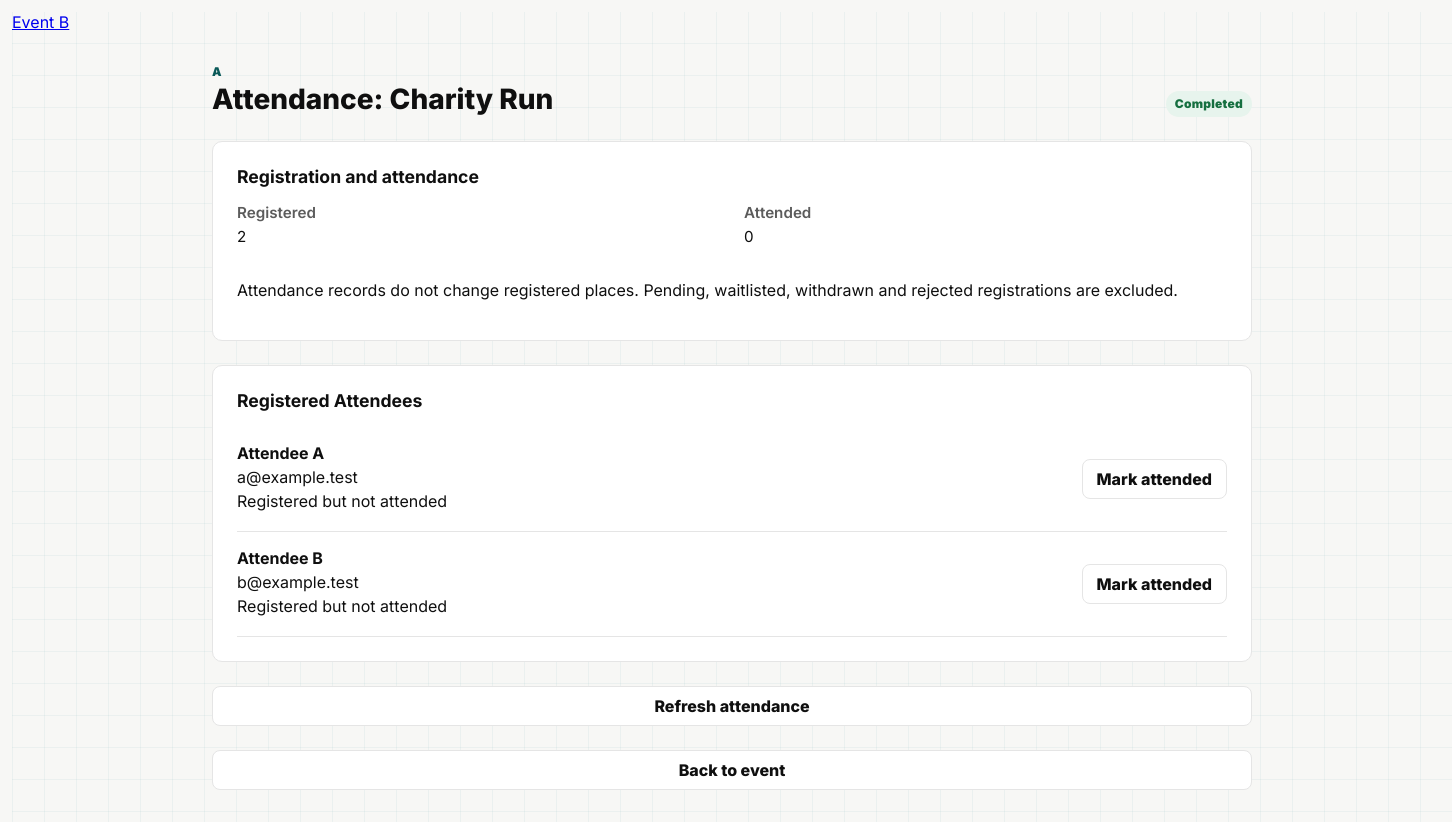
it: navigating during save aborts late response and hides the old success
Click the button with aria-label "Mark attended: Attendee A" at (1154, 479), box [1082,459,1227,499]
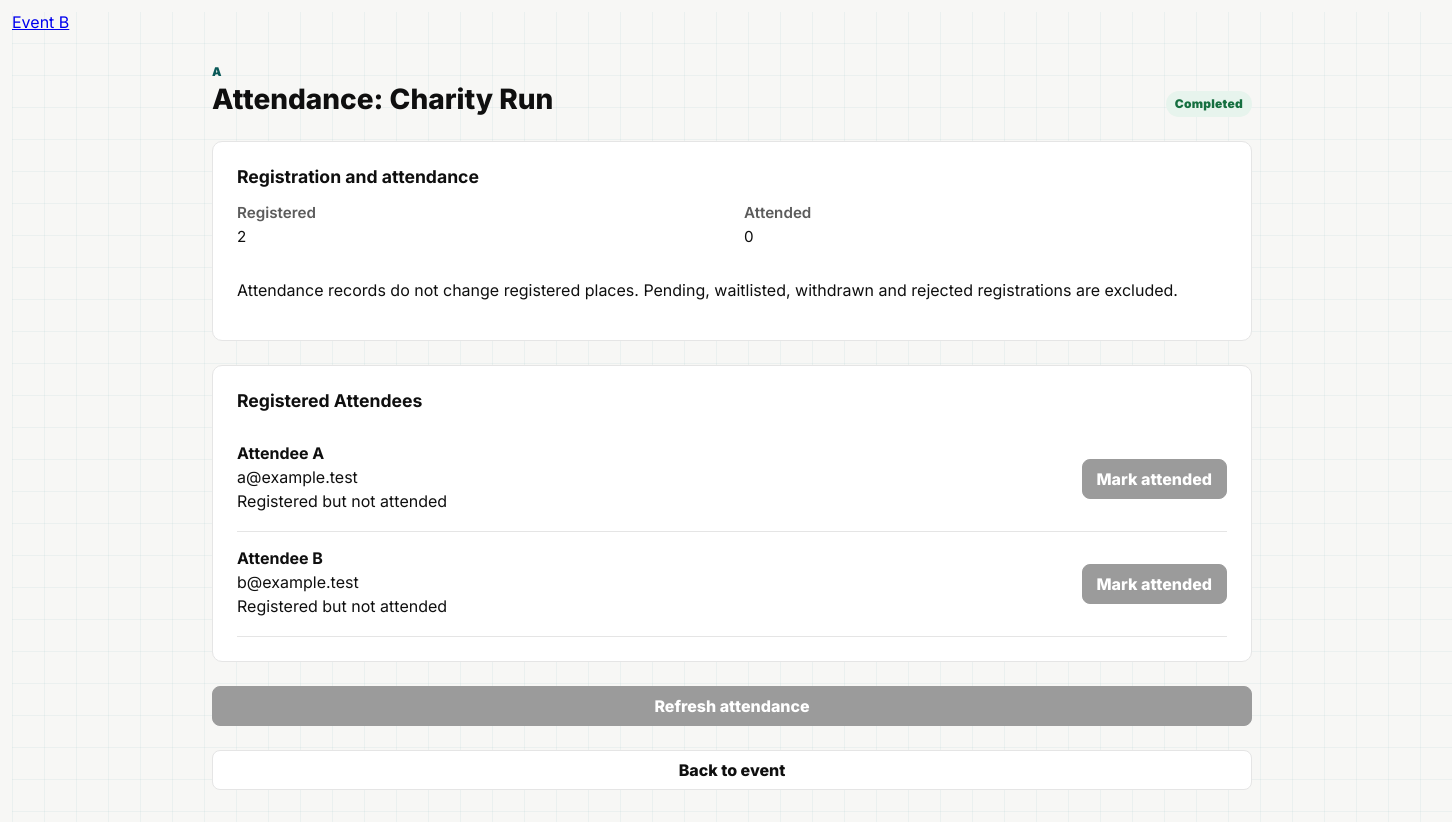
Click the link "Event B" at (41, 22), box [12,12,69,32]
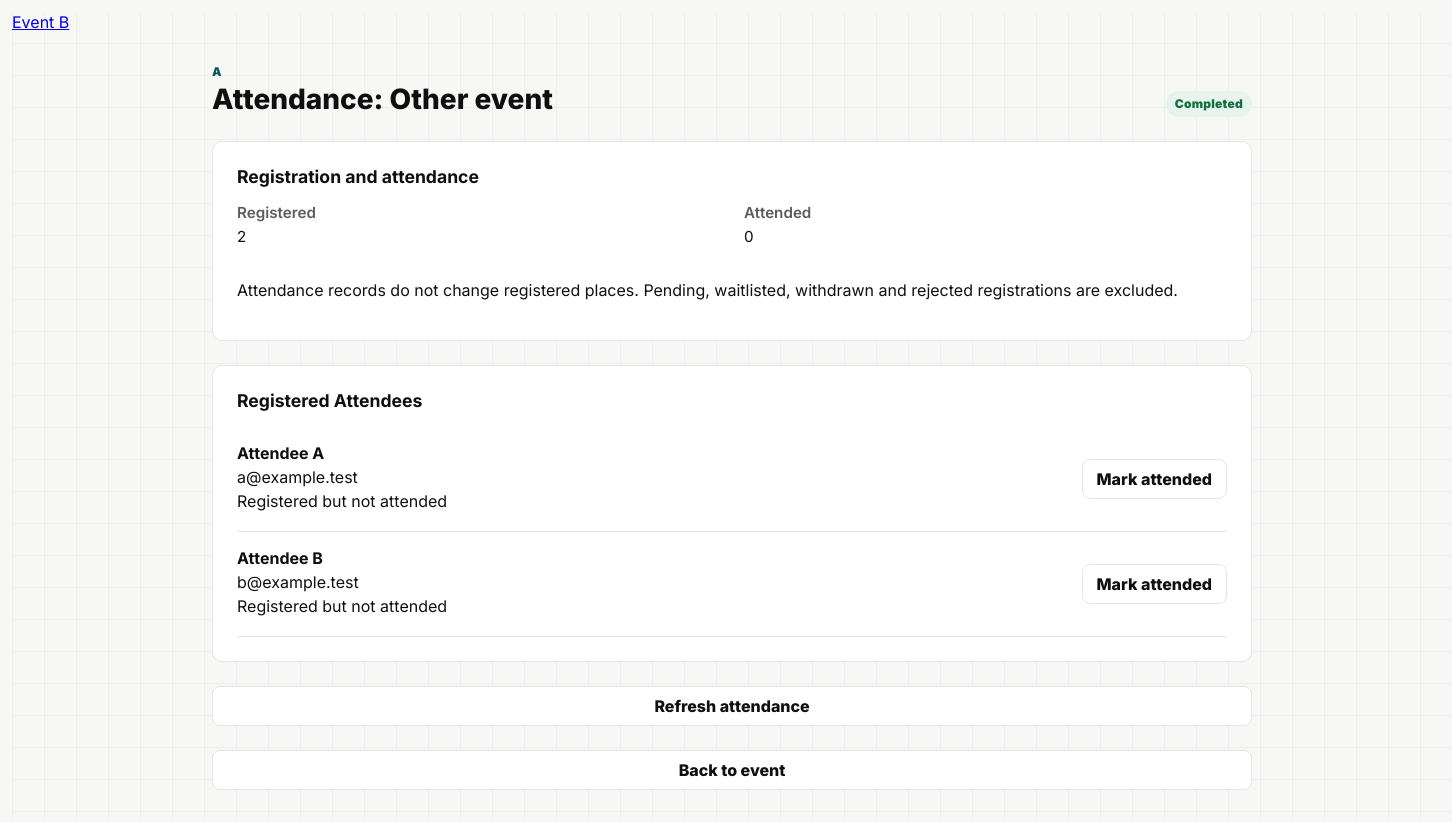
Check: the heading "Attendance: Other event" is shown, box [212,83,553,117]
